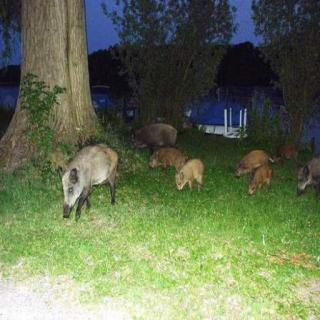Pig: (52, 135, 118, 212), (172, 160, 216, 196), (287, 152, 320, 197), (231, 151, 281, 180), (150, 144, 188, 173), (244, 168, 278, 197), (134, 123, 184, 142)
